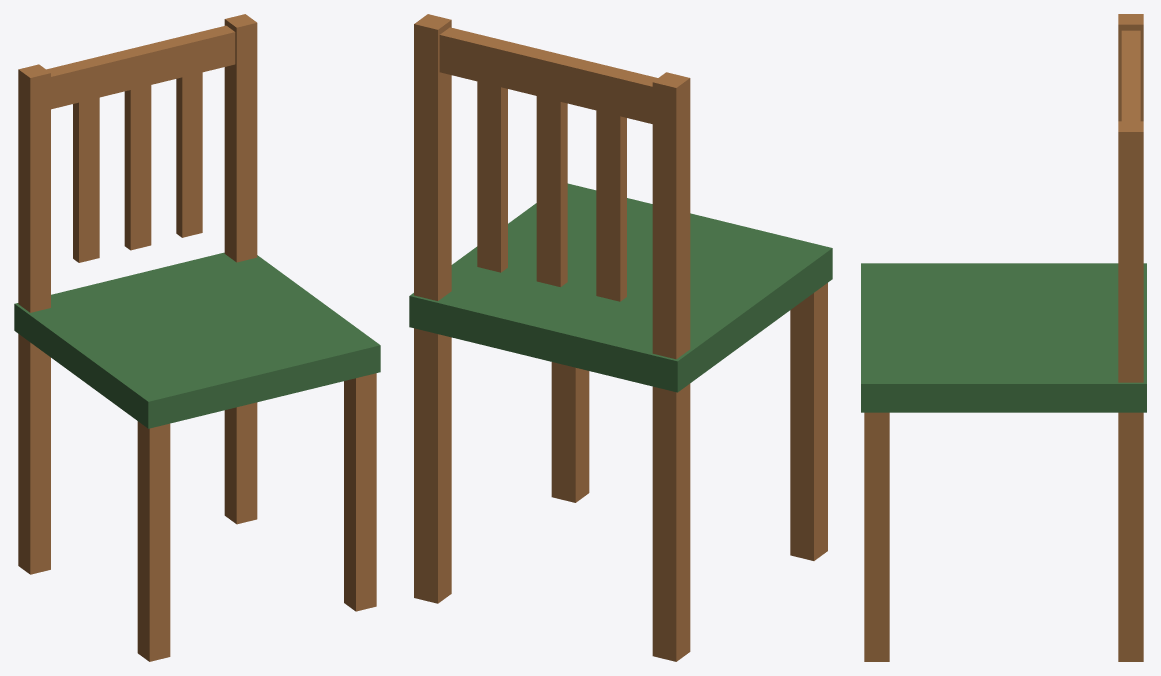
File: dining_chair.glb
The picture shows the model from 3 angles, left to right: view 1: azimuth 30°, elevation 25°; view 2: azimuth 150°, elevation 25°; view 3: azimuth 270°, elevation 25°; orthographic projection. The views are drawn at different scales.
Parts seen in each view (by area): view 1: seat_chair_seat, leg_chair_wood, post_chair_wood, slat_chair_wood, rail_chair_wood; view 2: seat_chair_seat, leg_chair_wood, post_chair_wood, slat_chair_wood, rail_chair_wood; view 3: seat_chair_seat, leg_chair_wood, post_chair_wood, rail_chair_wood.
Part boxes in pixels (box(x1,y1,x2,y2)): seat_chair_seat: box(14, 252, 380, 428); leg_chair_wood: box(18, 334, 376, 661); post_chair_wood: box(18, 14, 257, 312); slat_chair_wood: box(73, 72, 202, 262); rail_chair_wood: box(20, 25, 235, 113); seat_chair_seat: box(409, 183, 832, 392); leg_chair_wood: box(414, 283, 827, 661); post_chair_wood: box(414, 14, 690, 359); slat_chair_wood: box(477, 81, 626, 301); rail_chair_wood: box(439, 27, 688, 124); seat_chair_seat: box(861, 263, 1146, 412); leg_chair_wood: box(864, 412, 1143, 661); post_chair_wood: box(1118, 14, 1143, 382); rail_chair_wood: box(1121, 30, 1140, 171).
Bounding box in the file's own units: 0.45 × 0.92 × 0.45.
